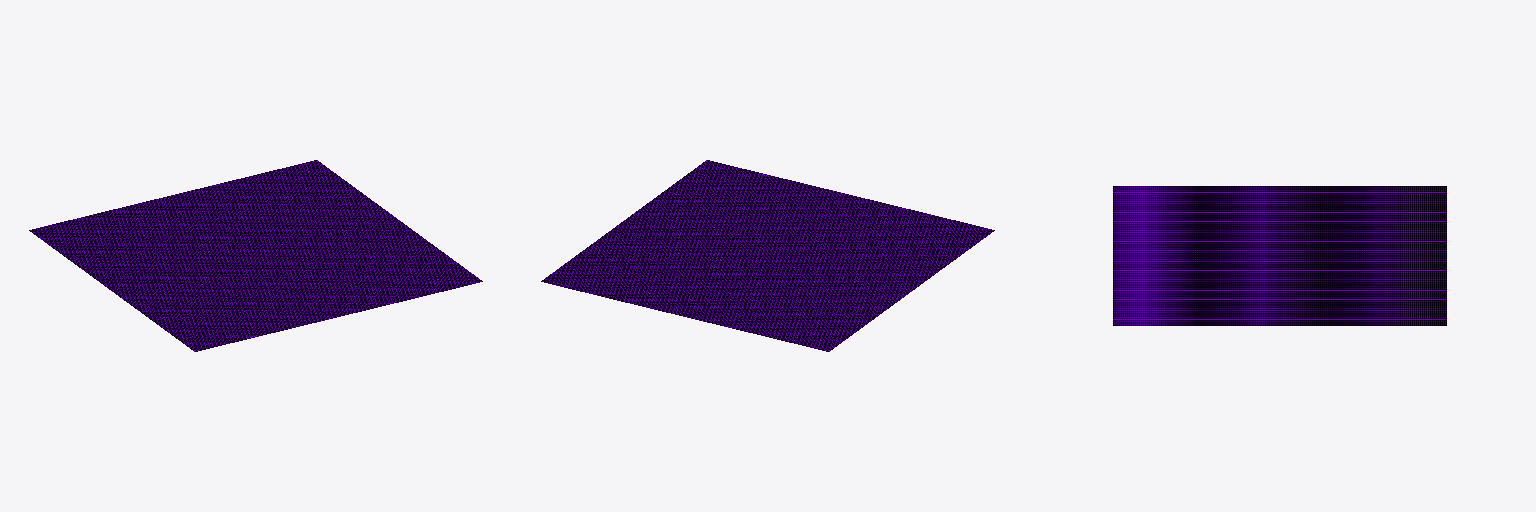
3 renders of one model, left to right at view 1: azimuth 30°, elevation 25°; view 2: azimuth 150°, elevation 25°; view 3: azimuth 270°, elevation 25°, orthographic.
Visible parts, largest first — view 1: Cube; view 2: Cube; view 3: Cube.
Part boxes in pixels (x1,y1,x2,y2): Cube: (29, 160, 482, 351); Cube: (541, 160, 994, 351); Cube: (1113, 186, 1446, 325).
Size of the model in its own units: 500 by 0 by 500.
1 materials, 1 textured.